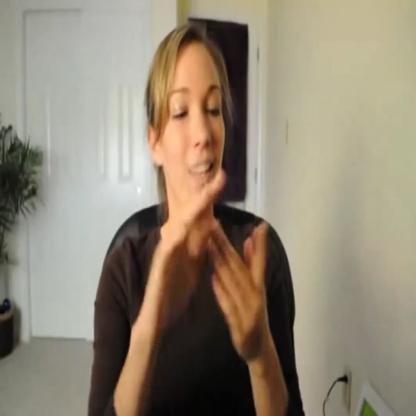NiceToMeetYou: (136, 151, 280, 380)
